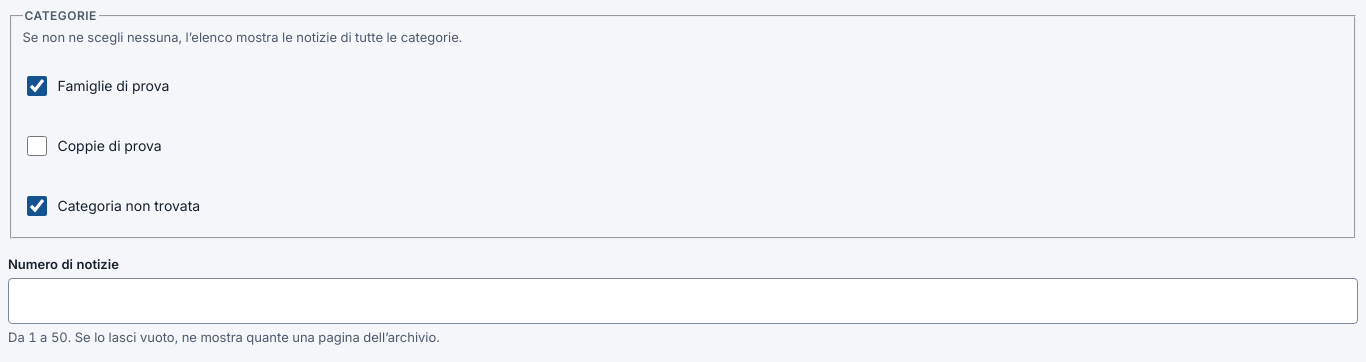
Test: pannello del blocco «Elenco di contenuti» (DR-320) › una categoria che non c’è più resta scelta, si mostra come «Categoria non trovata» e si toglie
The image size is (1366, 362).
Click the checkbox labelled "Categoria non trovata". click: (36, 206)
box: x1=26 y1=196 x2=46 y2=216
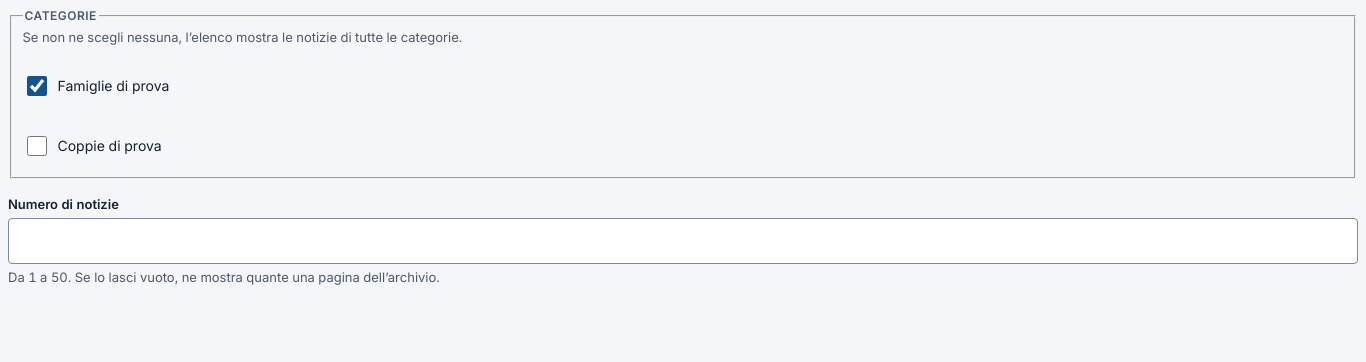
Now the text "Categoria non trovata" is gone
